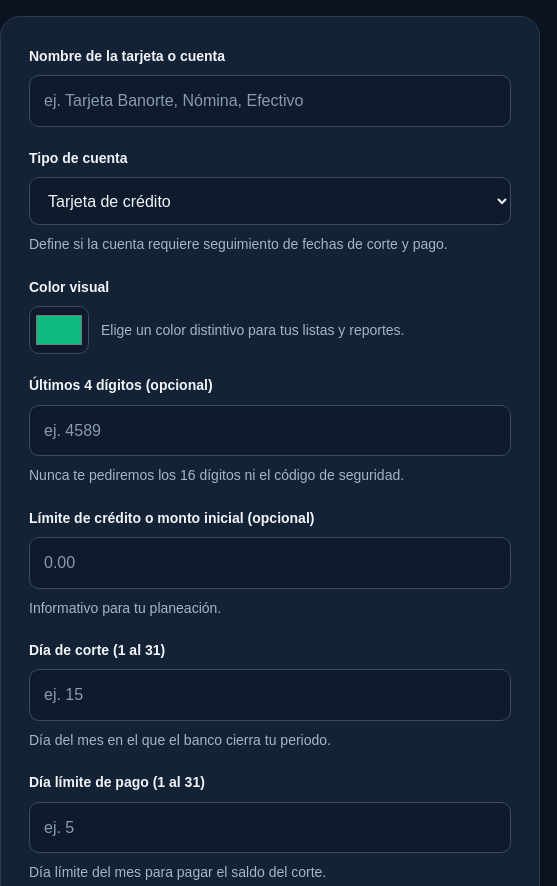
Test: CardForm › displays server error message when creation fails
The image size is (557, 886).
Step 1. Type "Test" into the field labelled "Nombre de la tarjeta o cuenta" → (270,101), box [29,75,511,127]
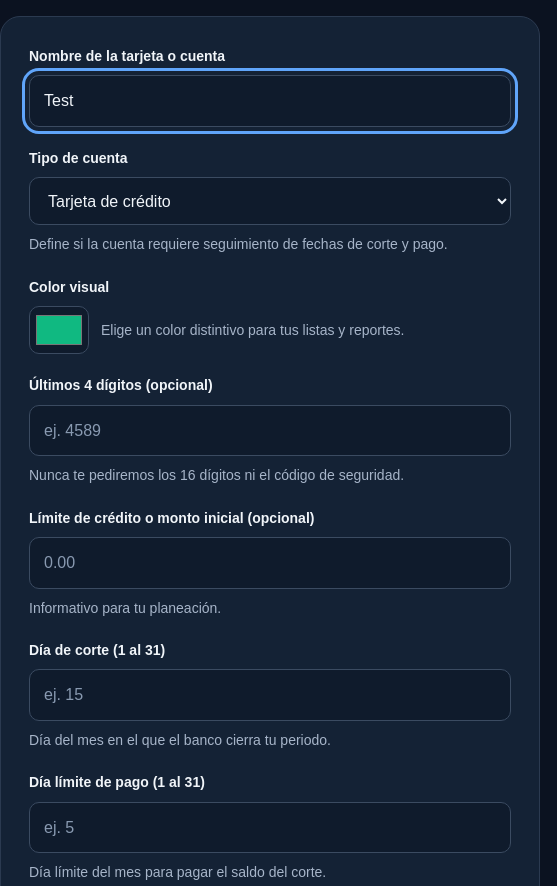
Step 2. Select "Cuenta de débito" in the dropdown labelled "Tipo de cuenta" → (270,201), box [29,177,511,225]
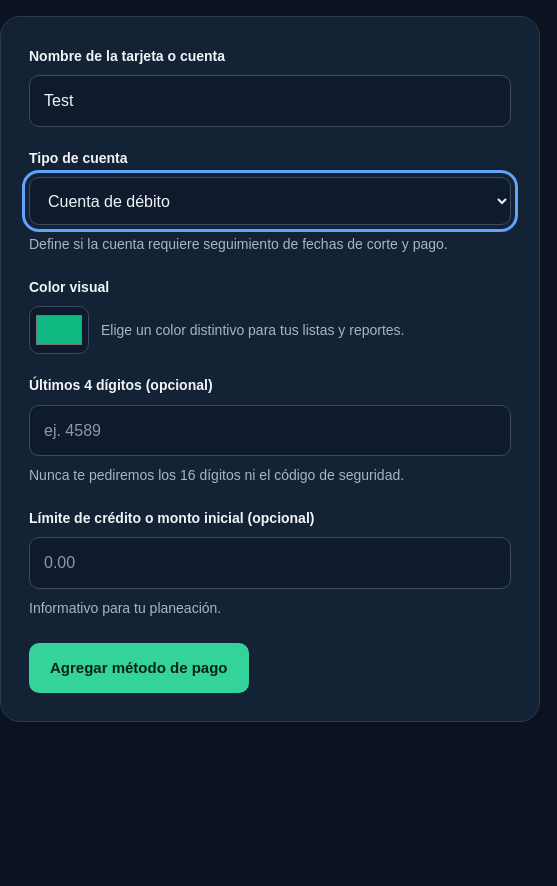
Step 3. Click the button "Agregar método de pago" → (139,668), box [29,643,248,693]
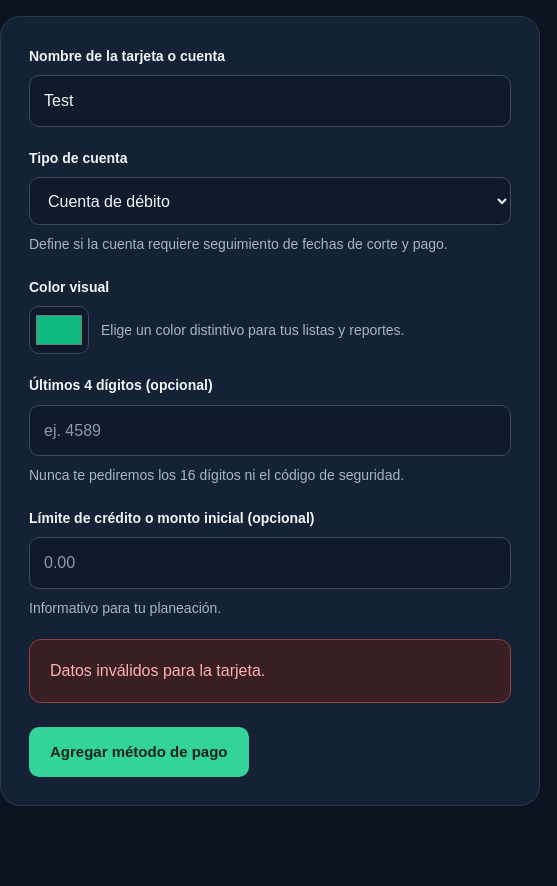
Expected: the message reads "Datos inválidos para la tarjeta.", [50,662,265,679]
